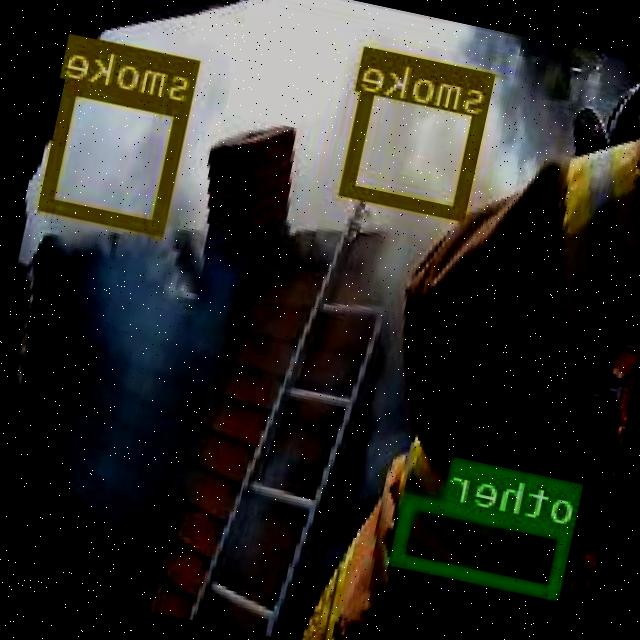smoke: (342, 46, 497, 218), (42, 78, 193, 234)
